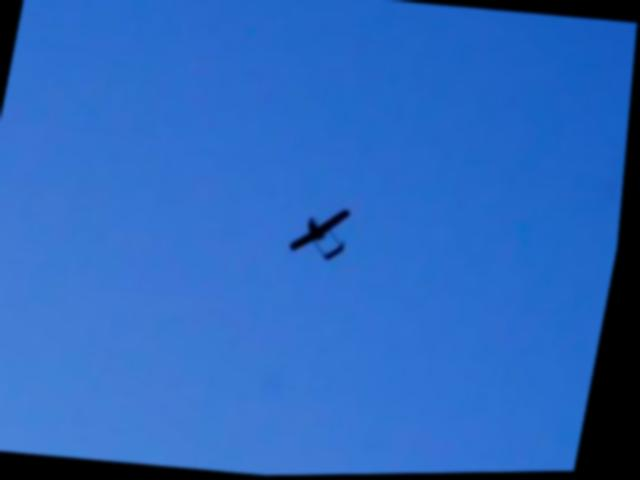uav: (291, 204, 359, 266)
